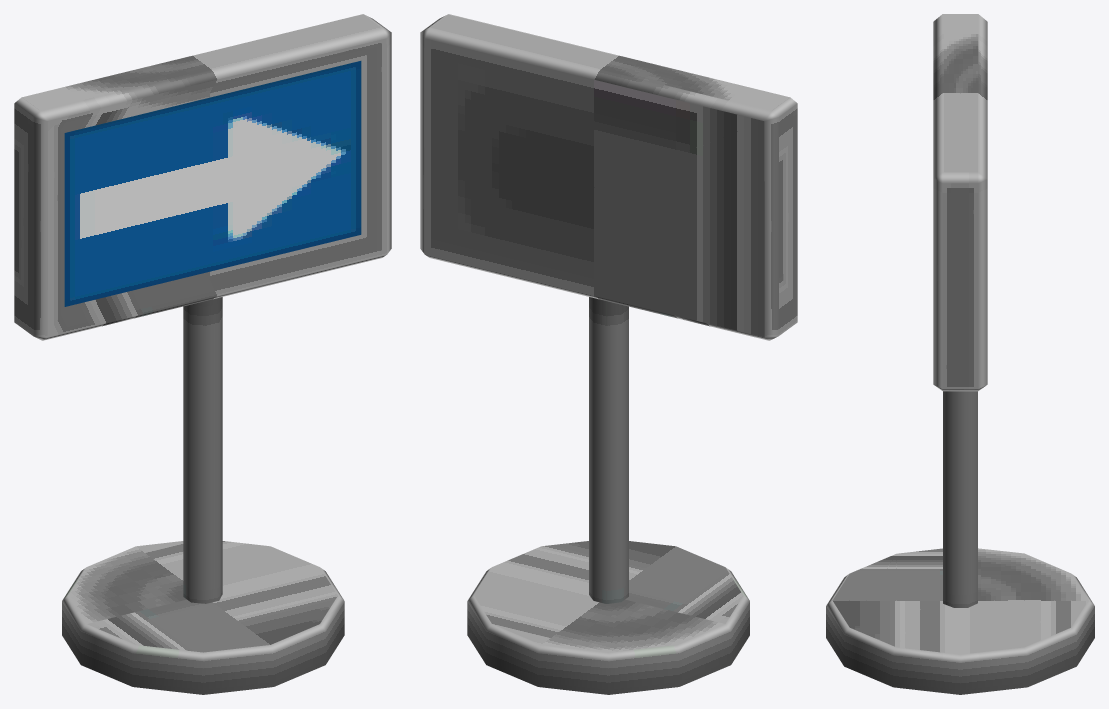
Rendered from rmk_mse_route.dae.
3 renders of one model, left to right at view 1: azimuth 30°, elevation 25°; view 2: azimuth 150°, elevation 25°; view 3: azimuth 270°, elevation 25°, orthographic. The views are drawn at different scales.
Visible parts, largest first — view 1: rmk_mse_route; view 2: rmk_mse_route; view 3: rmk_mse_route.
Part boxes in pixels (box(x1,y1,x2,y2)): rmk_mse_route: box(14, 14, 391, 694); rmk_mse_route: box(420, 14, 797, 694); rmk_mse_route: box(826, 14, 1094, 694).
Size of the model in its own units: 20.92 by 31.94 by 14.29.
Materials: 2 (2 with a texture image).
